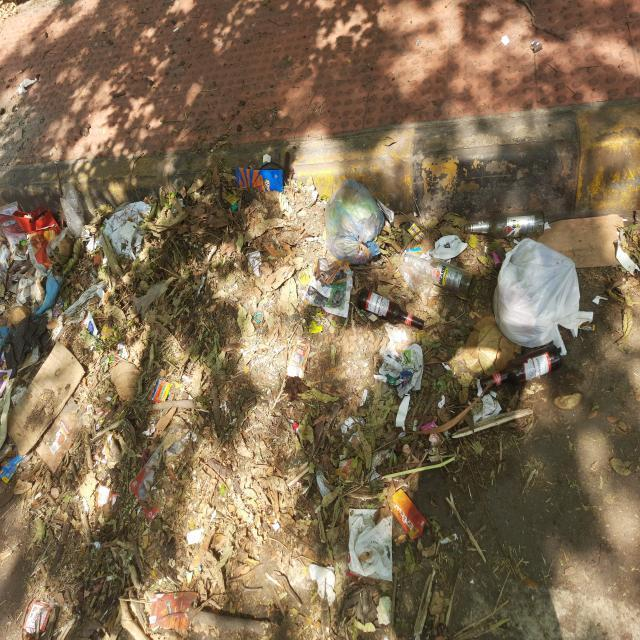Cig_pack: (288, 338, 310, 378)
Disposable: (341, 417, 364, 435), (349, 432, 360, 443)
Garbage: (0, 155, 631, 640)
Glass_bottle: (480, 345, 561, 388), (404, 253, 475, 298), (358, 288, 424, 330), (465, 210, 545, 238)
Mask: (316, 470, 334, 497)
Plastic_Bag: (494, 238, 592, 355), (325, 180, 384, 265), (38, 400, 82, 473), (349, 510, 392, 582), (12, 207, 61, 268), (2, 315, 49, 375), (102, 202, 150, 257), (130, 447, 162, 502), (60, 183, 85, 237), (399, 263, 431, 305), (309, 563, 336, 605), (35, 272, 60, 315), (429, 235, 468, 260), (165, 432, 196, 457), (165, 433, 190, 457), (46, 227, 69, 253), (0, 243, 10, 283), (144, 507, 159, 522), (170, 423, 185, 433), (170, 423, 185, 432), (0, 570, 2, 575)
Plastic_wraper: (236, 167, 284, 192), (0, 202, 26, 248), (18, 270, 46, 305), (152, 380, 171, 402), (84, 312, 98, 337), (0, 368, 12, 397), (96, 485, 110, 507), (185, 567, 201, 583), (492, 252, 502, 270), (309, 320, 322, 333), (225, 195, 240, 205), (405, 247, 422, 255), (0, 327, 10, 340), (81, 227, 90, 240), (111, 493, 118, 507), (108, 355, 118, 363), (292, 422, 299, 433), (316, 312, 322, 317)
Tetrapack: (150, 592, 199, 632), (392, 488, 426, 540), (22, 600, 51, 633), (408, 222, 424, 242), (180, 188, 186, 198)
Thermocol: (120, 222, 136, 242)
